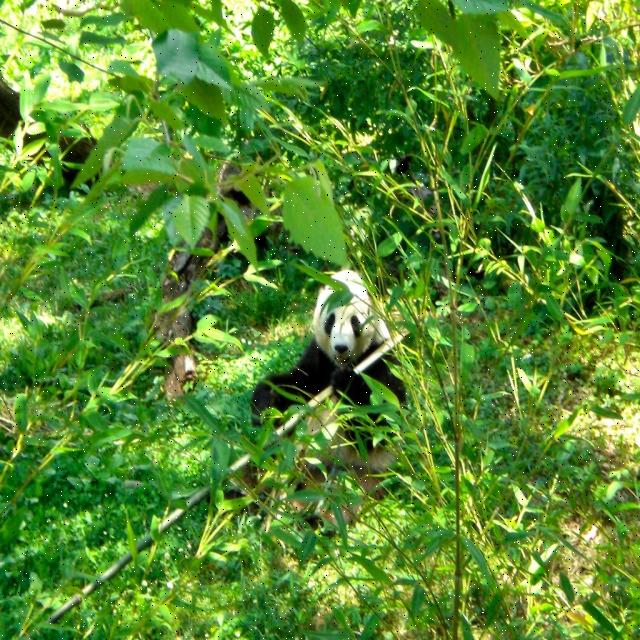panda: (206, 266, 409, 544)
